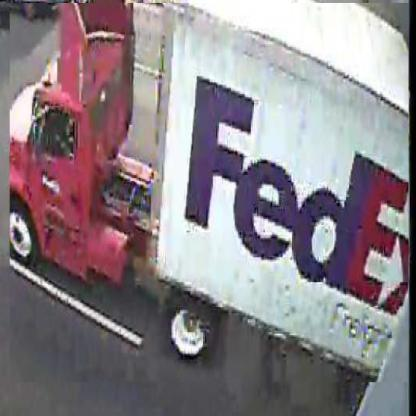container: (11, 4, 410, 385)
